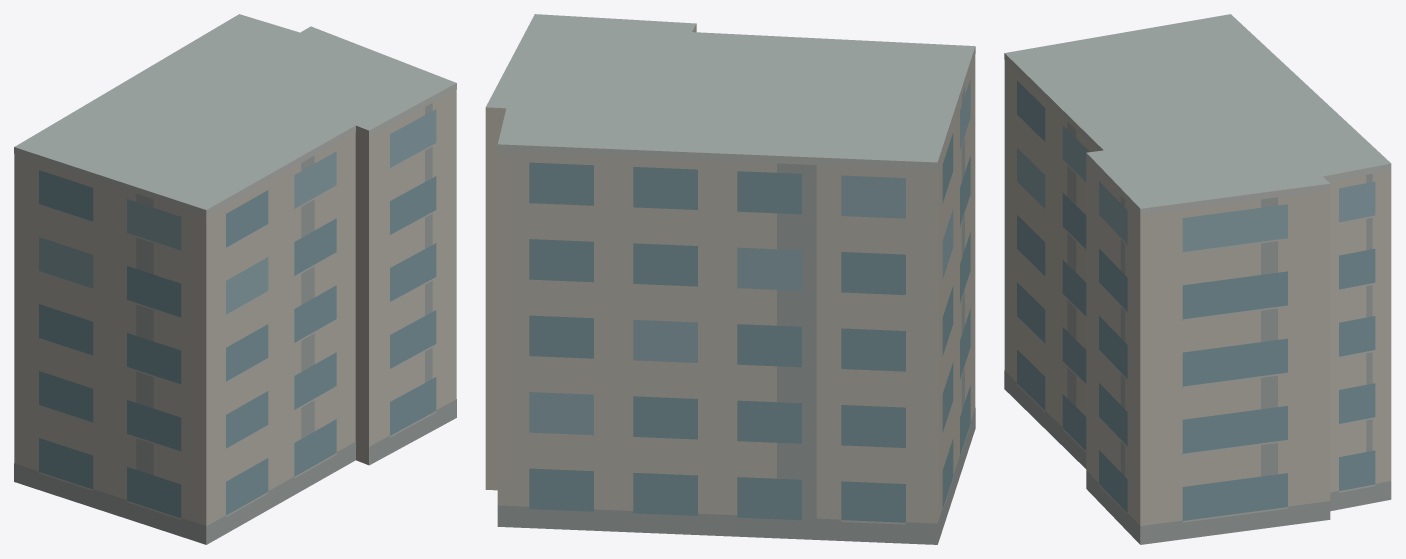
Rendered from survey-upis-32942451.glb.
3 renders of one model, left to right at view 1: azimuth 30°, elevation 25°; view 2: azimuth 150°, elevation 25°; view 3: azimuth 270°, elevation 25°, orthographic. The views are drawn at different scales.
Visible parts, largest first — view 1: survey-upis-32942451.tmp; view 2: survey-upis-32942451.tmp; view 3: survey-upis-32942451.tmp.
Part boxes in pixels (x1,y1,x2,y2): survey-upis-32942451.tmp: (14, 14, 456, 544); survey-upis-32942451.tmp: (485, 14, 975, 544); survey-upis-32942451.tmp: (1004, 14, 1391, 544).
Size of the model in its own units: 15.36 by 12.35 by 12.89.
